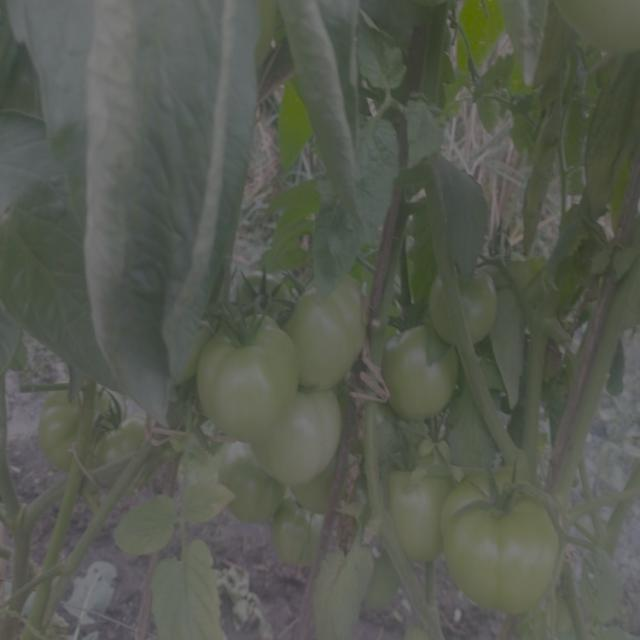tomato: (447, 470, 565, 612), (208, 313, 294, 429), (39, 386, 146, 463), (299, 277, 368, 388), (389, 464, 444, 564), (391, 342, 458, 415), (557, 1, 640, 57), (218, 440, 278, 517), (297, 400, 352, 481), (430, 280, 499, 338), (283, 499, 329, 566), (364, 561, 389, 606)
